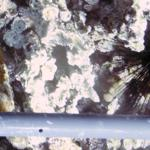dead: (1, 1, 148, 113)
